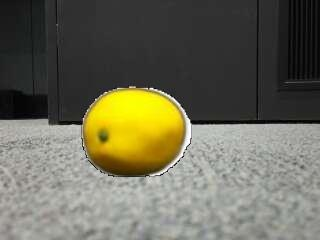lemon: (83, 91, 185, 178)
